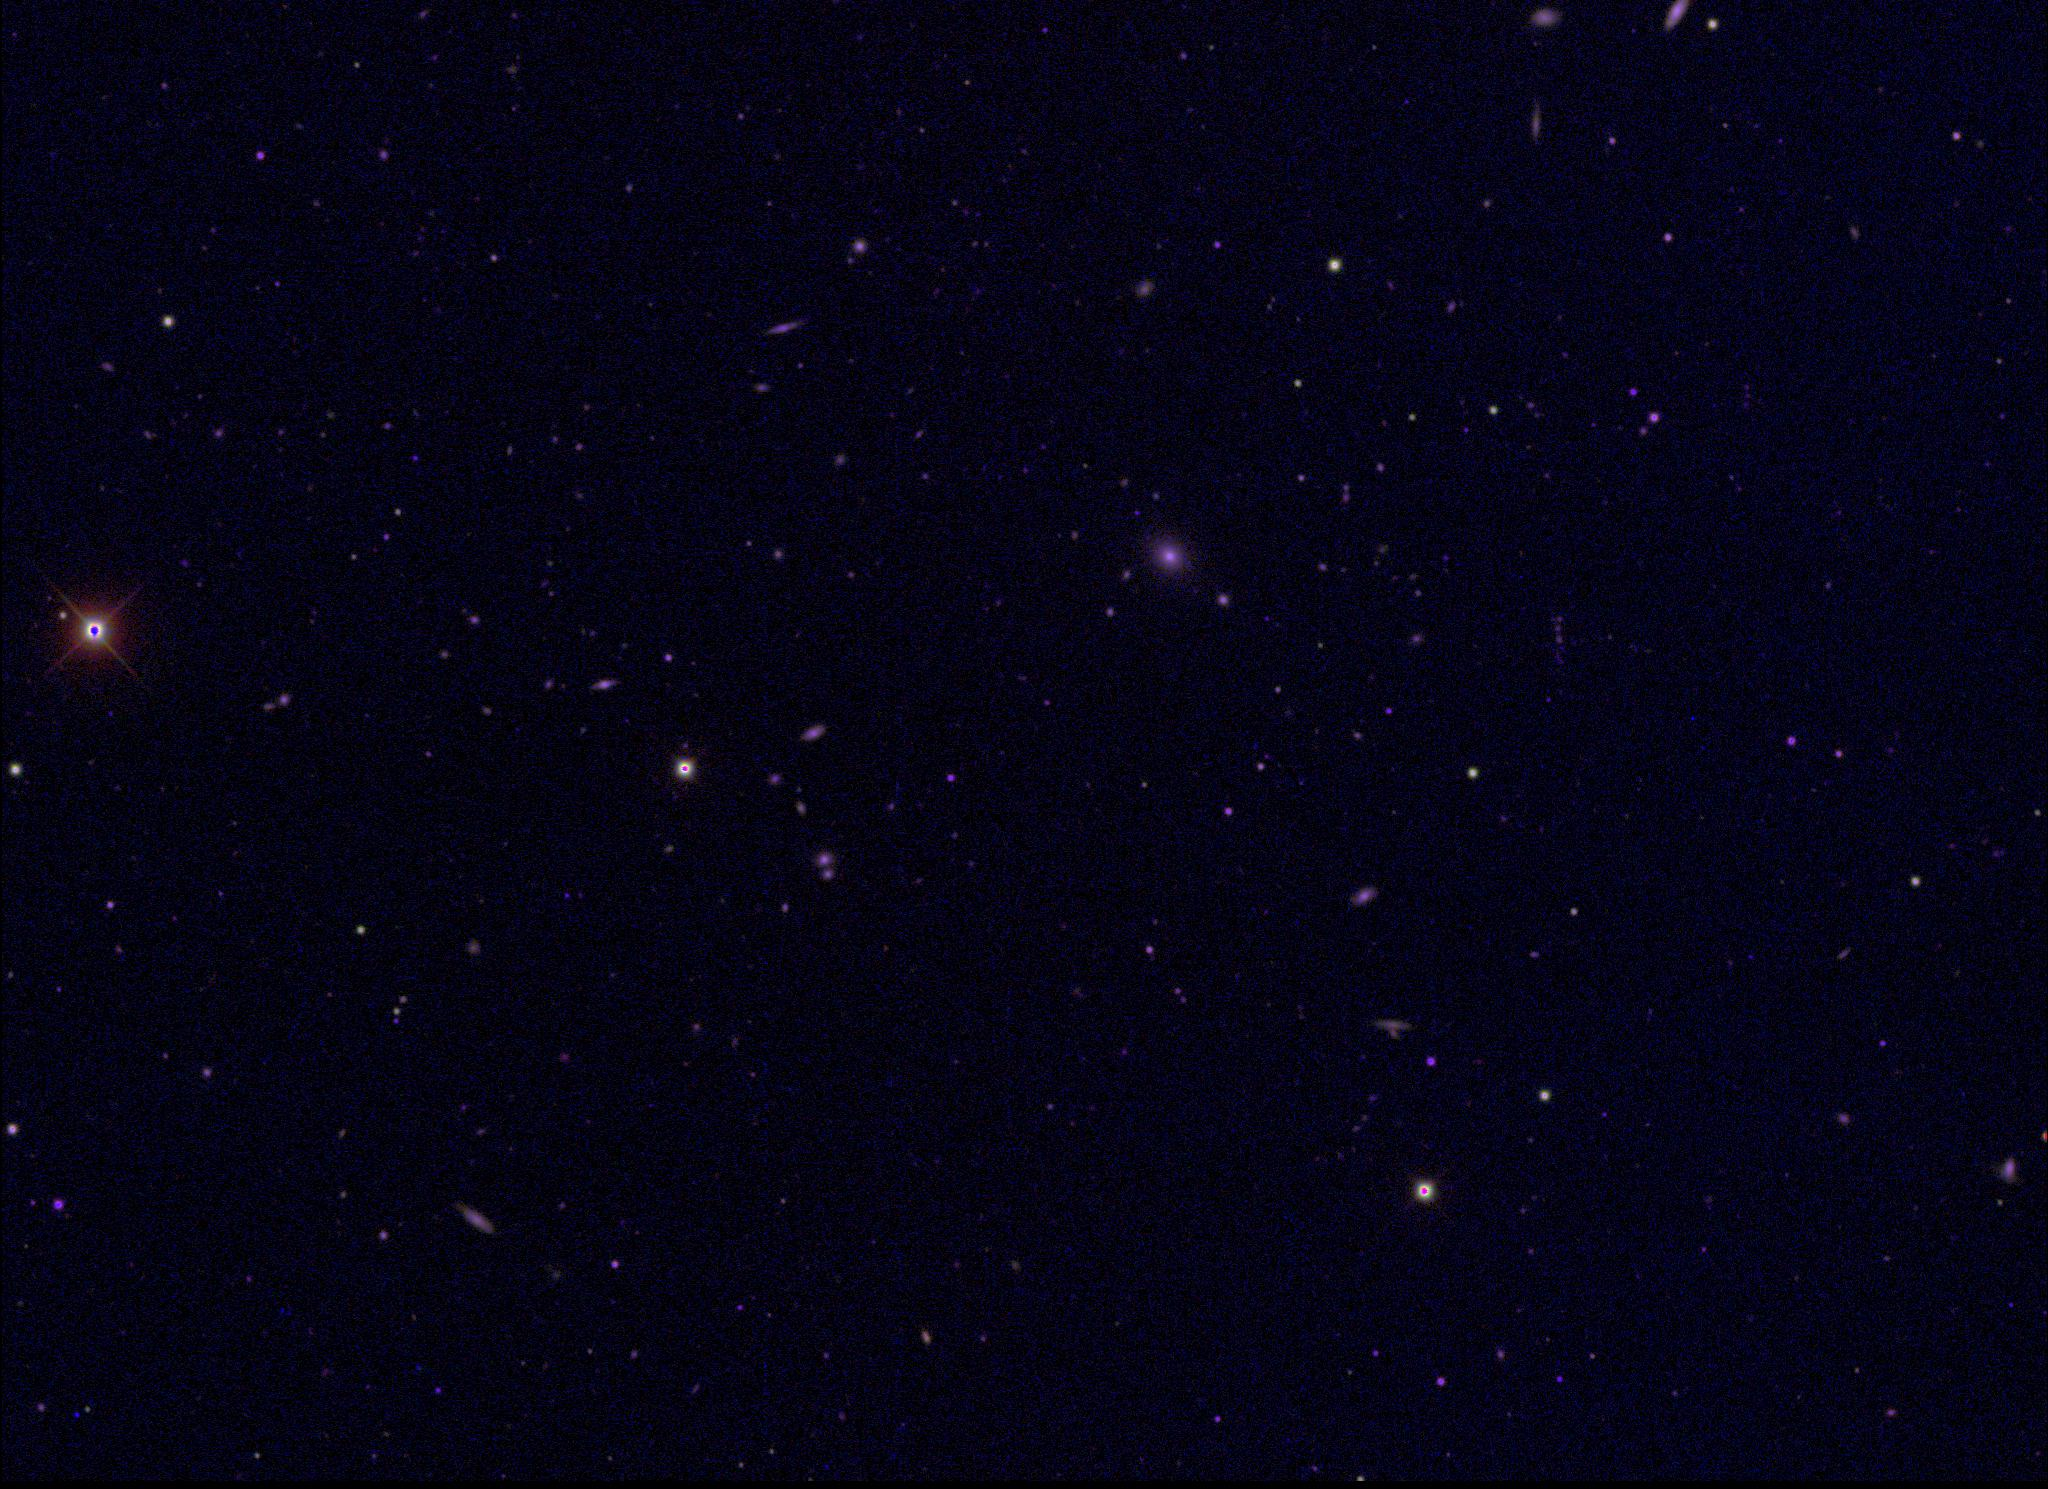L: (70, 1408, 84, 1422)
